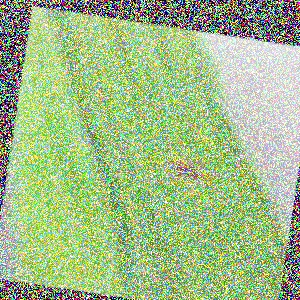Bacterial_Leaf_Blight: (159, 144, 220, 198), (125, 257, 163, 282)
